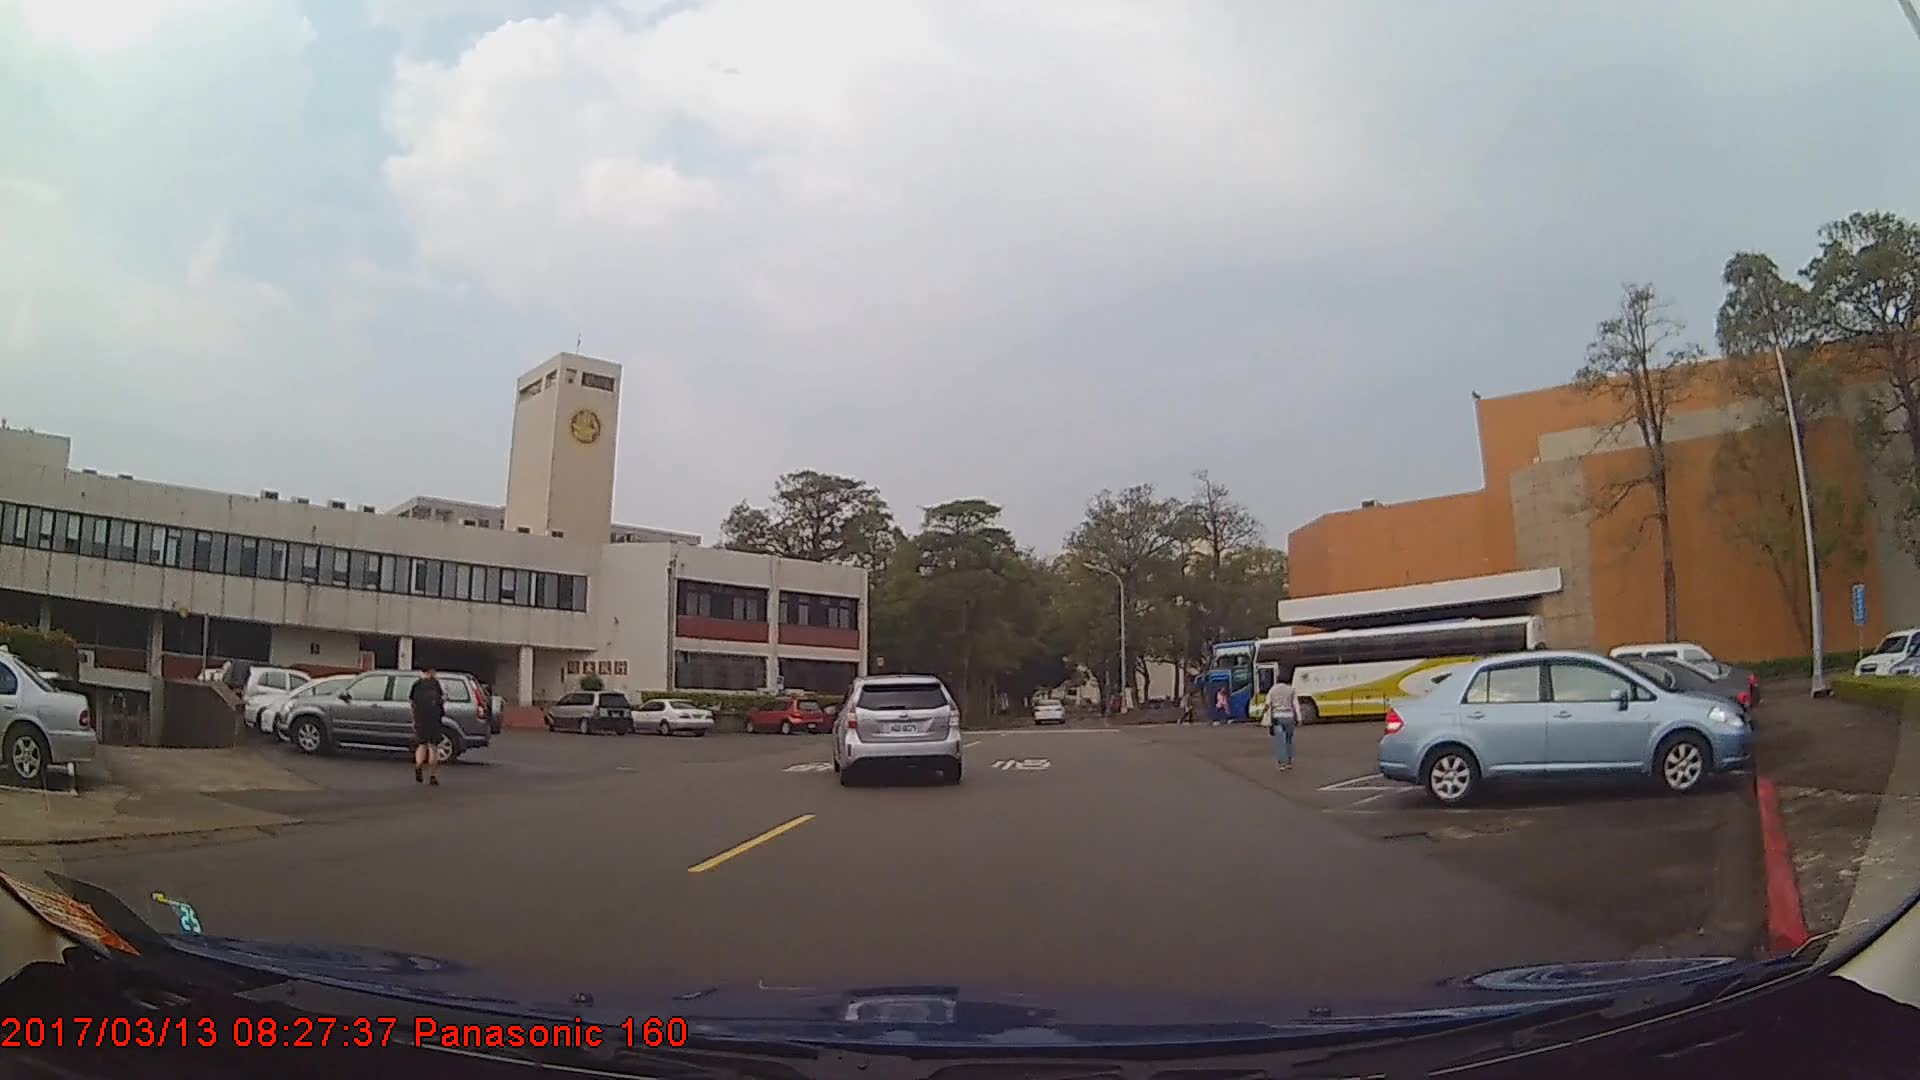pedestrian: (409, 662, 454, 789), (1265, 672, 1304, 776)
vehicle: (1378, 644, 1752, 806), (1248, 614, 1547, 729), (1204, 636, 1443, 724), (283, 667, 503, 762), (0, 644, 99, 792), (833, 671, 959, 787), (241, 664, 340, 722), (540, 689, 633, 736), (627, 695, 714, 735), (747, 696, 829, 736), (1032, 696, 1062, 727)
